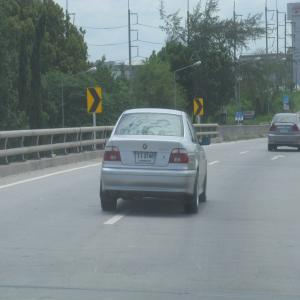Vehicle-registration-plate: (137, 154, 156, 164), (281, 129, 288, 133)
